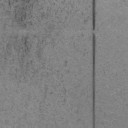surface scratch: (91, 34, 96, 128), (92, 0, 94, 30)
